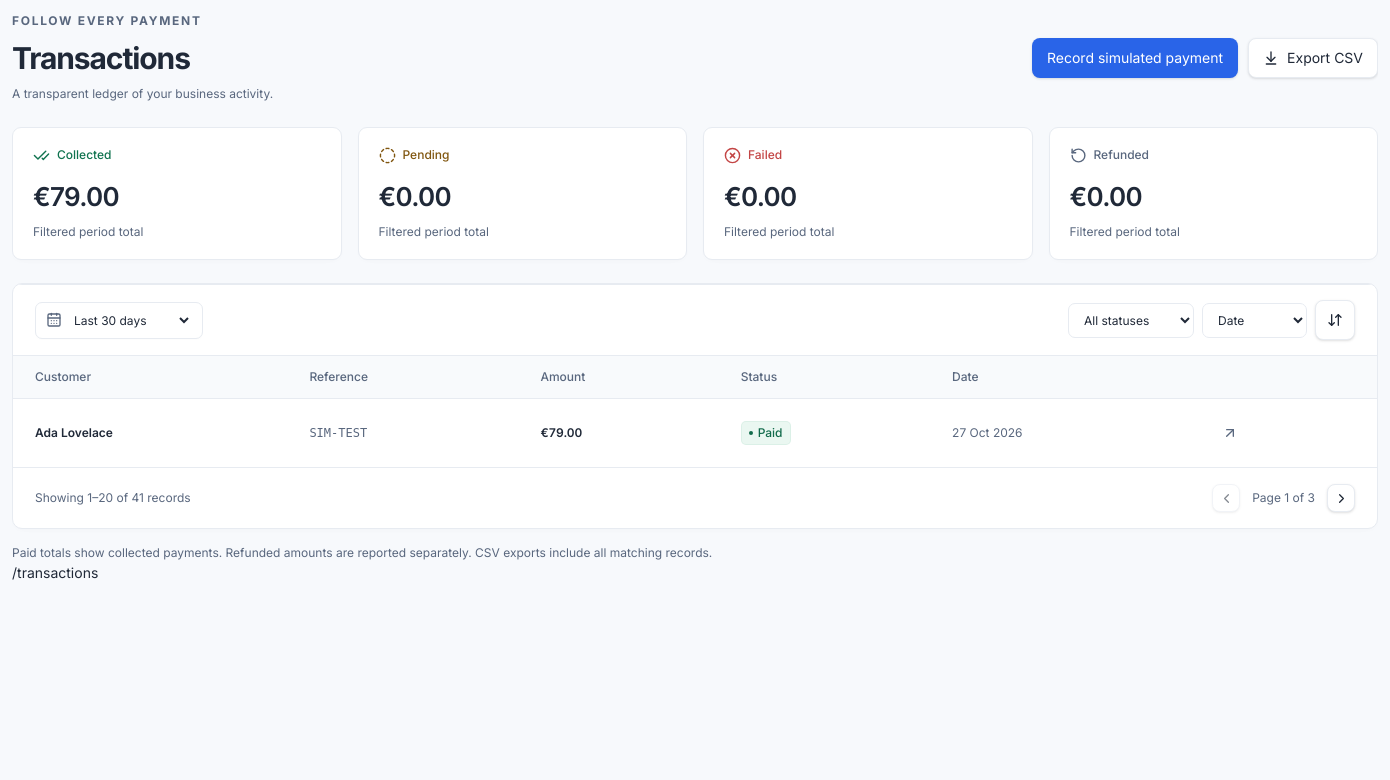
reporting and ledger pages › shows actionable export errors and lets the user retry
Click the button "Export CSV". click: coordinates (1313, 58)
box: [1248,38,1378,78]
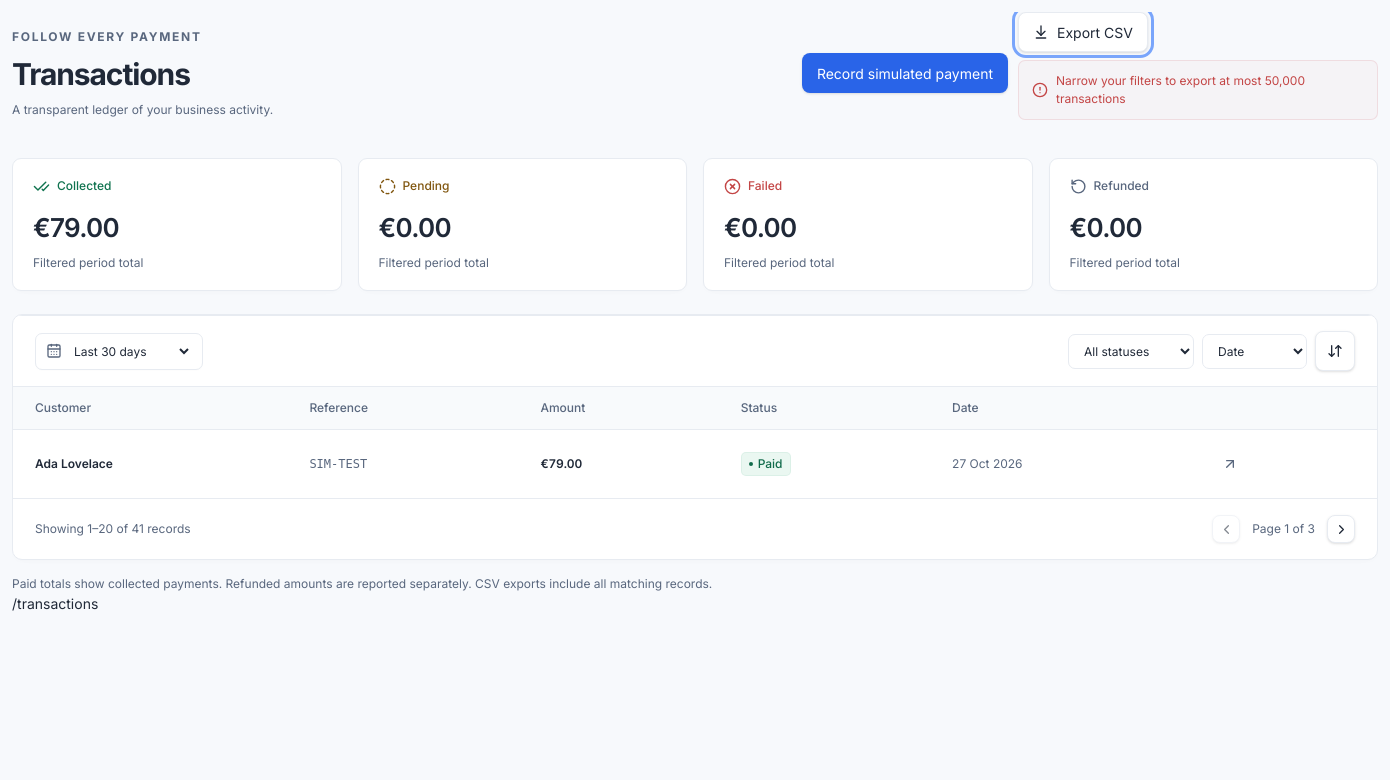
Expected: the message shows "Narrow your filters", [1056,73,1305,106]
Select "Paid" in the dropdown named "Transaction status". click: coordinates (1131, 351)
box: [1068,334,1194,368]
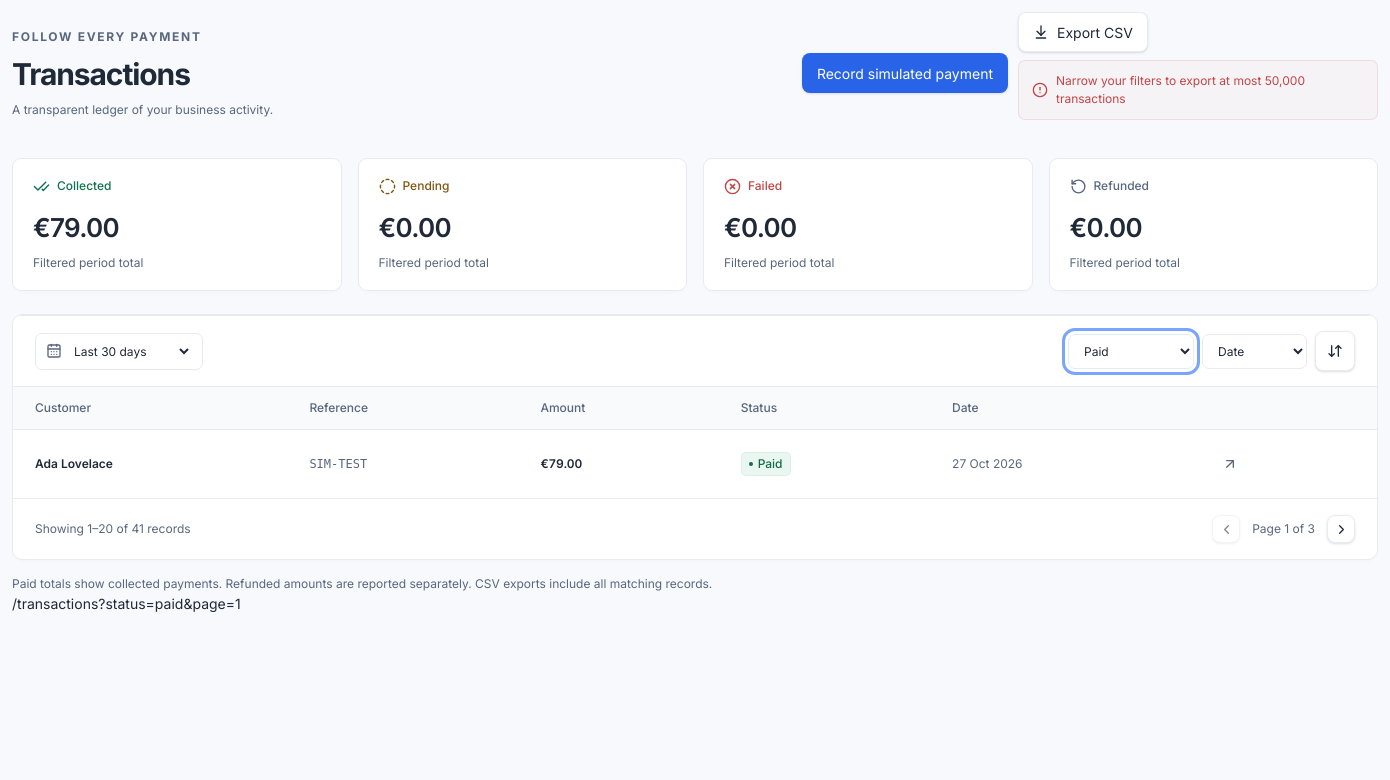
Click the button "Export CSV". click: coordinates (1083, 32)
box: [1018,12,1148,52]
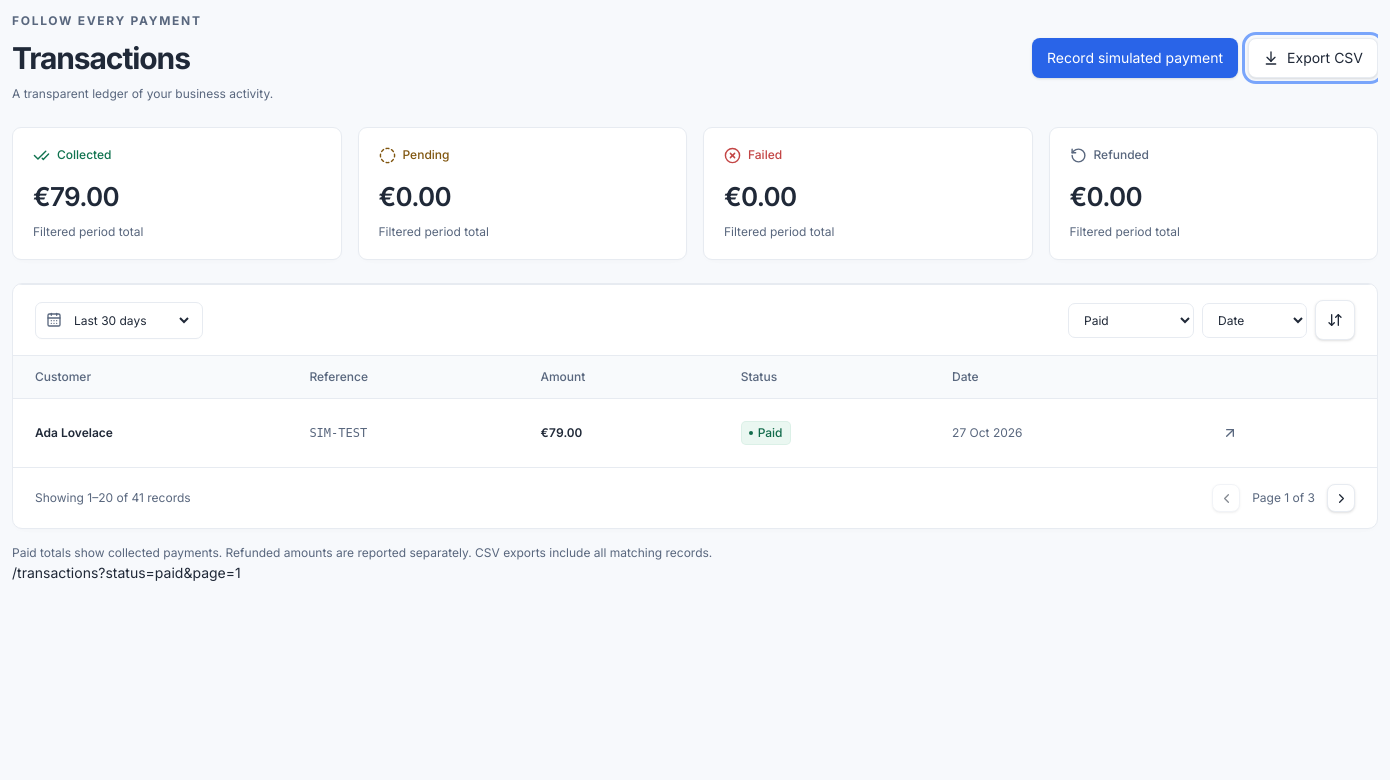
Expected: the message "Narrow your filters to export at most 50,000 transactions" is gone
